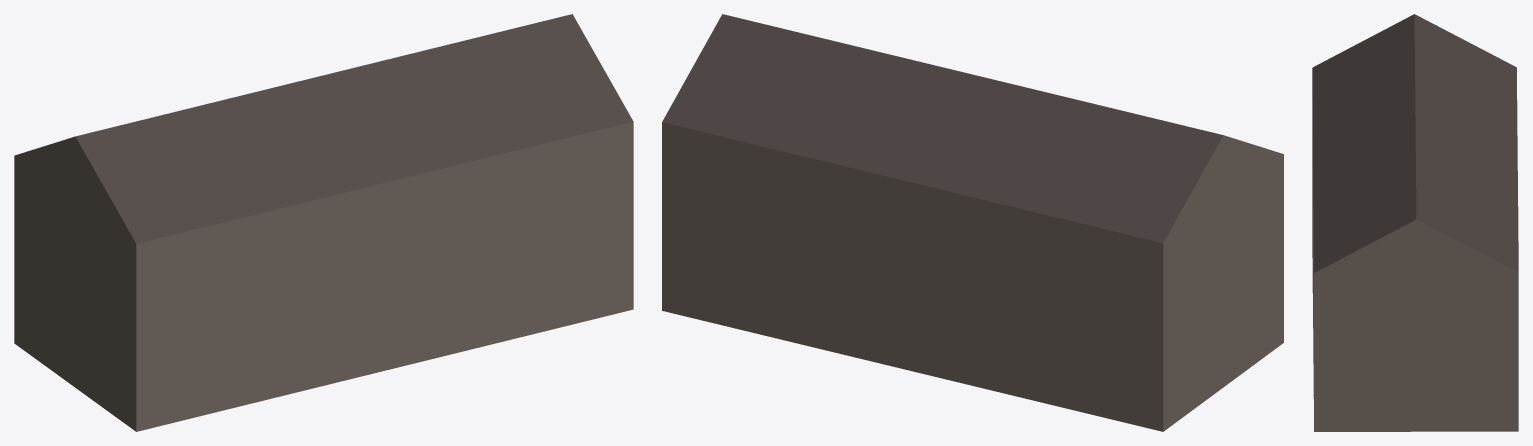
3 views of the same model, side by side, from view 1: azimuth 30°, elevation 25°; view 2: azimuth 150°, elevation 25°; view 3: azimuth 270°, elevation 25° (orthographic). The views are drawn at different scales.
Parts seen in each view (by area): view 1: HP-w1200756561; view 2: HP-w1200756561; view 3: HP-w1200756561.
Part boxes in pixels (left/top/right/bottom): HP-w1200756561: left=14, top=14, right=633, bottom=431; HP-w1200756561: left=662, top=14, right=1283, bottom=431; HP-w1200756561: left=1312, top=14, right=1518, bottom=431.
Size of the model in its own units: 16.67 by 8.02 by 7.07.
